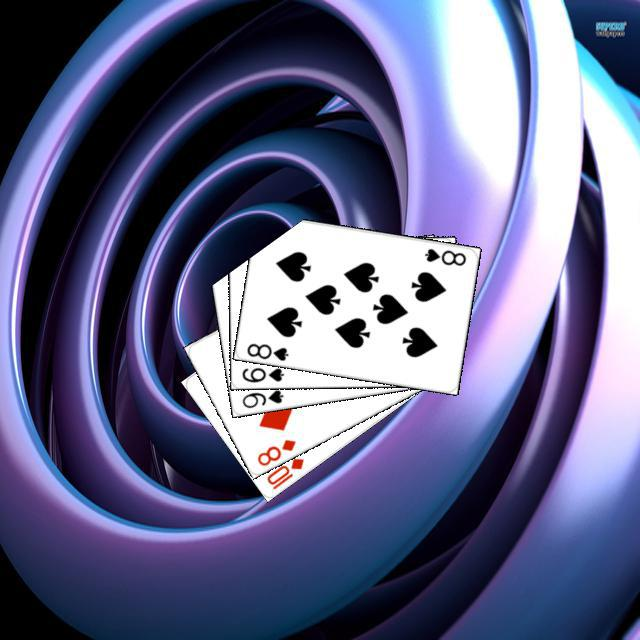10d: (262, 453, 306, 491)
6s: (237, 363, 285, 384)
8d: (252, 434, 298, 468)
8s: (242, 338, 290, 363), (420, 243, 468, 267)
9s: (237, 385, 285, 410)
